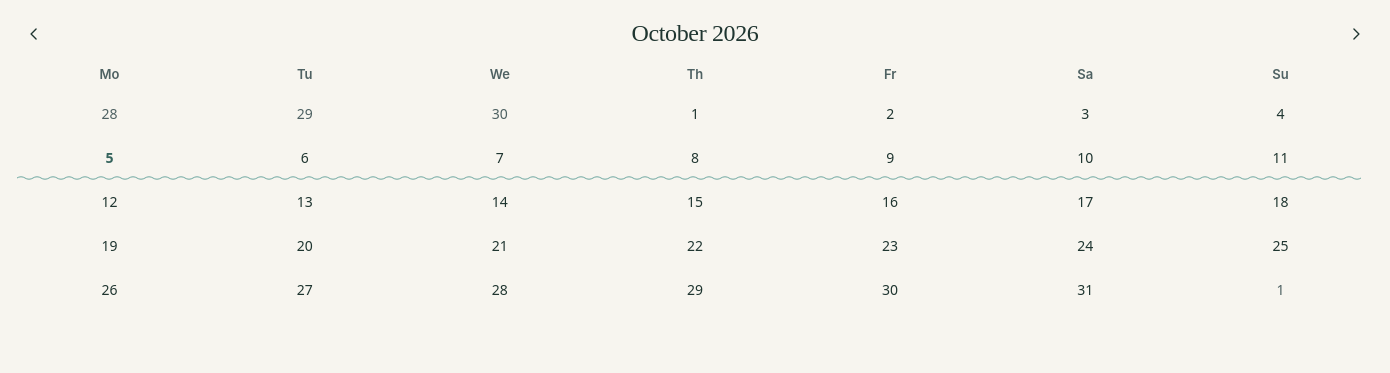
Test: MonthGrid › reports a tapped day as a calendar date and moves months by the first day
The width and height of the screenshot is (1390, 373).
Step 1. Click the button named "Friday, October 9, 2026" → [890, 159], box [793,137,988,181]
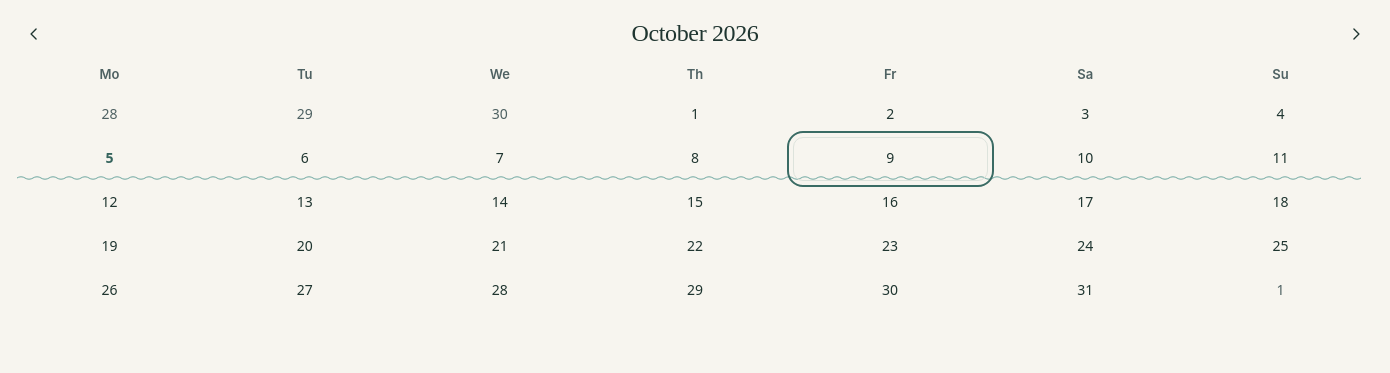
Step 2. Click the button named "Next month" → [1356, 34], box [1334,12,1378,56]
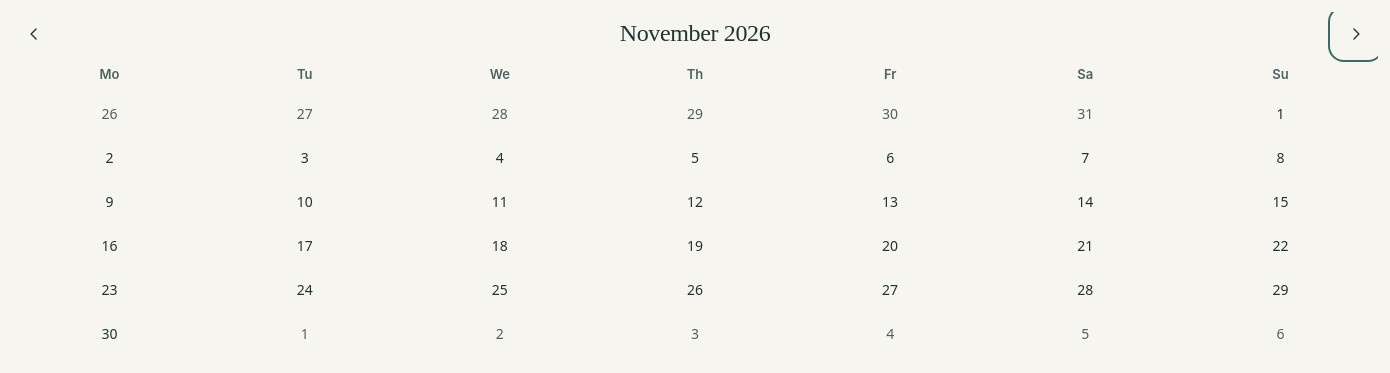
expect the table named "November 2026" is shown: met
